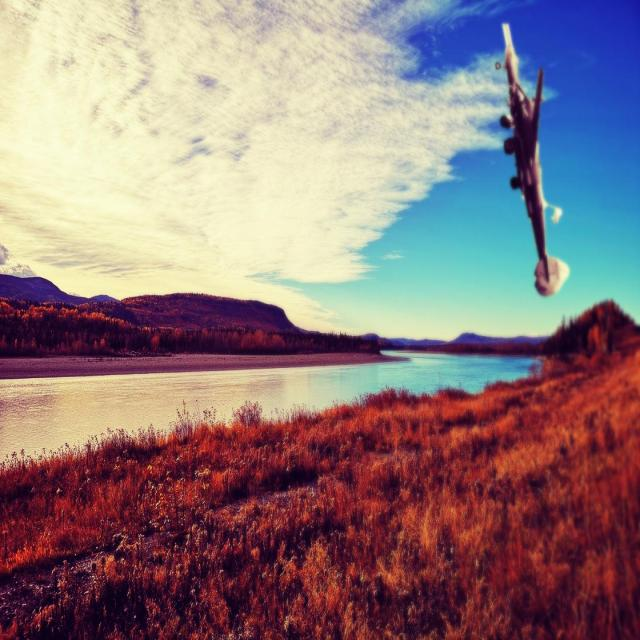airplane: (494, 22, 570, 296)
